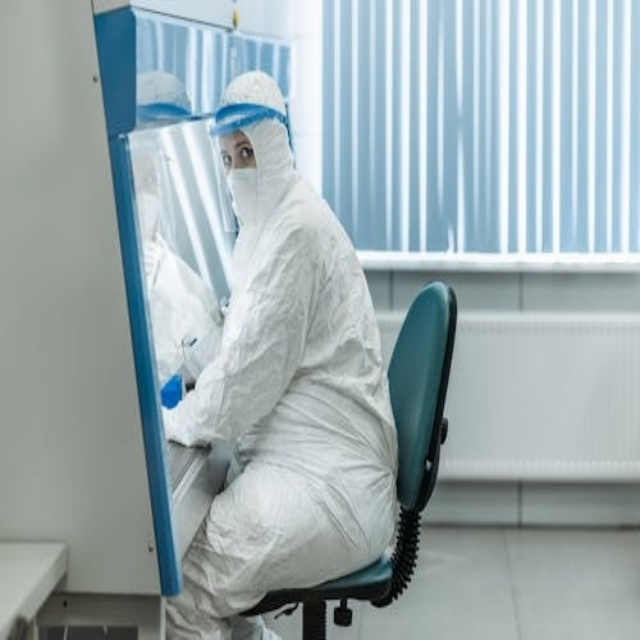Mascara: (220, 165, 262, 232)
Sin_gafas: (218, 138, 259, 171)
